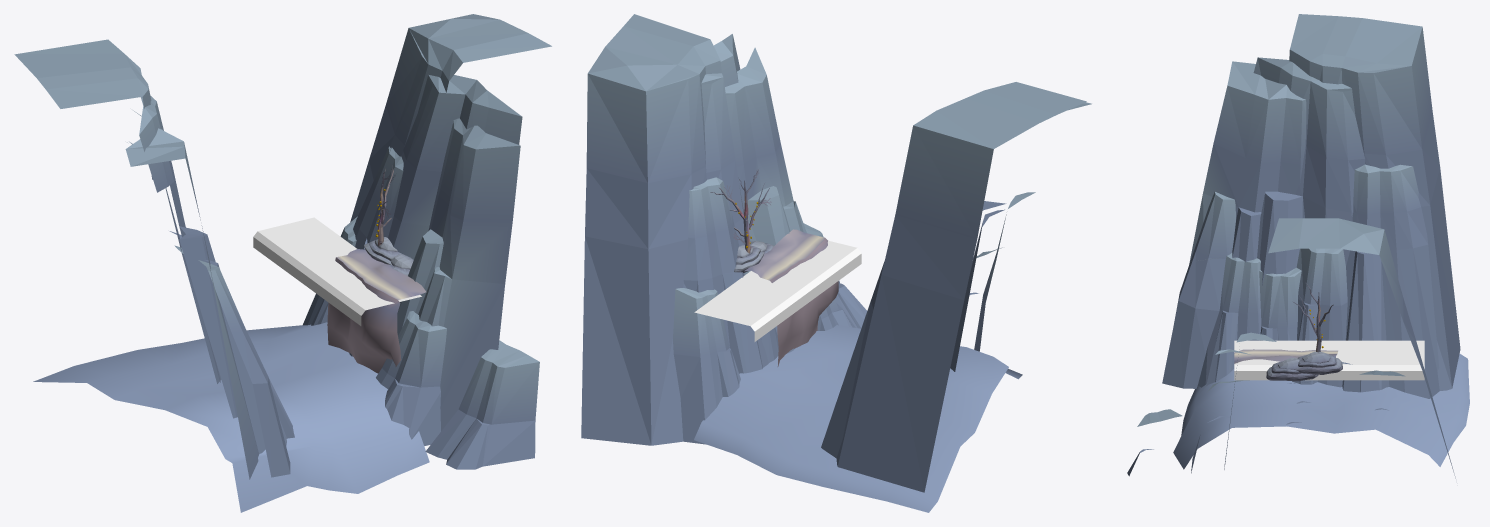
File: Arctic_Narrows_Left_Transition_Post_A.glb
The picture shows the model from 3 angles, left to right: view 1: azimuth 30°, elevation 25°; view 2: azimuth 150°, elevation 25°; view 3: azimuth 270°, elevation 25°; orthographic projection. The views are drawn at different scales.
Parts seen in each view (by area): view 1: Arctic_Narrows_Left_IceWall_A02, Arctic_Narrows_Left_Transition_Post_A, Arctic_Narrows_Right_IceWall_A02, Arctic_Narrows_Left_IceWall_A02_Right, inv_fill, Arctic_Narrows_Left_IceWall_A02_Mid, Arctic_Narrows_Right_IceWall_A02_Left, Arctic_Narrows_Left_IceWall_A02_Left, Arctic_Narrows_Right_IceWall_A02_Right; view 2: Arctic_Narrows_Left_IceWall_A02, Arctic_Narrows_Right_IceWall_A02, Arctic_Narrows_Left_Transition_Post_A, Arctic_Narrows_Left_IceWall_A02_Left, inv_fill, Arctic_Narrows_Right_IceWall_A02_Right, Arctic_Narrows_Left_IceWall_A02_Mid, Arctic_Narrows_Left_IceWall_A02_Right, Arctic_Narrows_Right_IceWall_A02_Left; view 3: Arctic_Narrows_Right_IceWall_A02, Arctic_Narrows_Left_Transition_Post_A, Arctic_Narrows_Right_IceWall_A02_Right, Arctic_Narrows_Right_IceWall_A02_Left, Arctic_Narrows_Right_IceWall_A02_Mid, inv_fill, Arctic_Narrows_Left_IceWall_A02, Arctic_Narrows_Left_IceWall_A02_Right, Arctic_Narrows_Right_Snow_A01 (1).
Boxes of the visible parts, x1=… form: Arctic_Narrows_Left_IceWall_A02: x1=350, y1=14, x2=551, y2=431; Arctic_Narrows_Left_Transition_Post_A: x1=33, y1=249, x2=429, y2=512; Arctic_Narrows_Right_IceWall_A02: x1=14, y1=39, x2=265, y2=479; Arctic_Narrows_Left_IceWall_A02_Right: x1=425, y1=340, x2=539, y2=469; inv_fill: x1=253, y1=217, x2=421, y2=325; Arctic_Narrows_Left_IceWall_A02_Mid: x1=349, y1=311, x2=446, y2=445; Arctic_Narrows_Right_IceWall_A02_Left: x1=198, y1=260, x2=294, y2=477; Arctic_Narrows_Left_IceWall_A02_Left: x1=302, y1=146, x2=403, y2=325; Arctic_Narrows_Right_IceWall_A02_Right: x1=127, y1=141, x2=221, y2=383; Arctic_Narrows_Left_IceWall_A02: x1=581, y1=14, x2=806, y2=445; Arctic_Narrows_Right_IceWall_A02: x1=836, y1=82, x2=1091, y2=492; Arctic_Narrows_Left_Transition_Post_A: x1=694, y1=229, x2=1022, y2=512; Arctic_Narrows_Left_IceWall_A02_Left: x1=673, y1=177, x2=768, y2=444; inv_fill: x1=694, y1=240, x2=861, y2=341; Arctic_Narrows_Right_IceWall_A02_Right: x1=821, y1=261, x2=884, y2=458; Arctic_Narrows_Left_IceWall_A02_Mid: x1=744, y1=270, x2=855, y2=362; Arctic_Narrows_Left_IceWall_A02_Right: x1=803, y1=223, x2=867, y2=328; Arctic_Narrows_Right_IceWall_A02_Left: x1=969, y1=192, x2=1035, y2=351; Arctic_Narrows_Right_IceWall_A02: x1=1189, y1=14, x2=1460, y2=390; Arctic_Narrows_Left_Transition_Post_A: x1=1173, y1=349, x2=1469, y2=469; Arctic_Narrows_Right_IceWall_A02_Right: x1=1342, y1=164, x2=1439, y2=398; Arctic_Narrows_Right_IceWall_A02_Left: x1=1162, y1=192, x2=1261, y2=388; Arctic_Narrows_Right_IceWall_A02_Mid: x1=1259, y1=248, x2=1347, y2=387; inv_fill: x1=1234, y1=340, x2=1424, y2=380; Arctic_Narrows_Left_IceWall_A02: x1=1198, y1=218, x2=1455, y2=478; Arctic_Narrows_Left_IceWall_A02_Right: x1=1127, y1=409, x2=1182, y2=476; Arctic_Narrows_Right_Snow_A01 (1): x1=1266, y1=367, x2=1318, y2=381.
Size of the model in its own units: 27.08 by 21.22 by 19.87.
